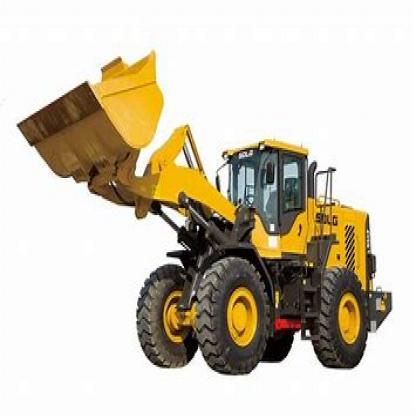bull_dozer/loader/grader: (4, 37, 398, 386)
